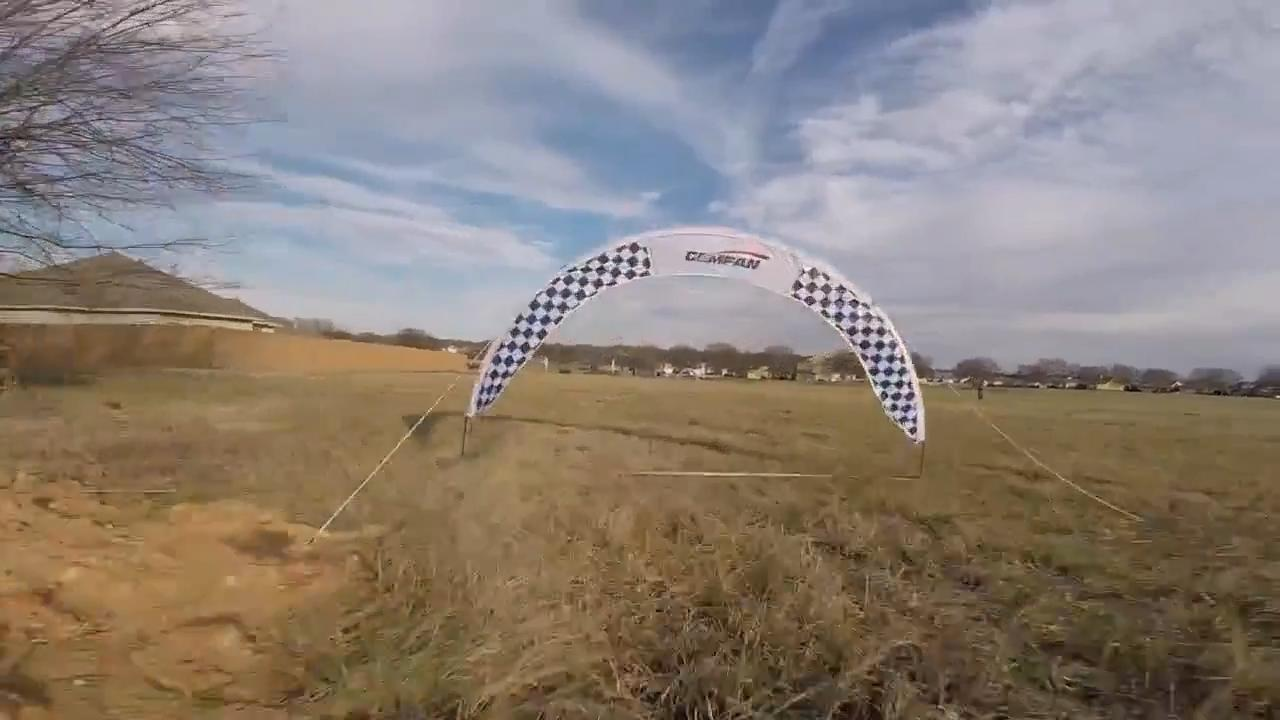gate: (466, 225, 928, 445)
